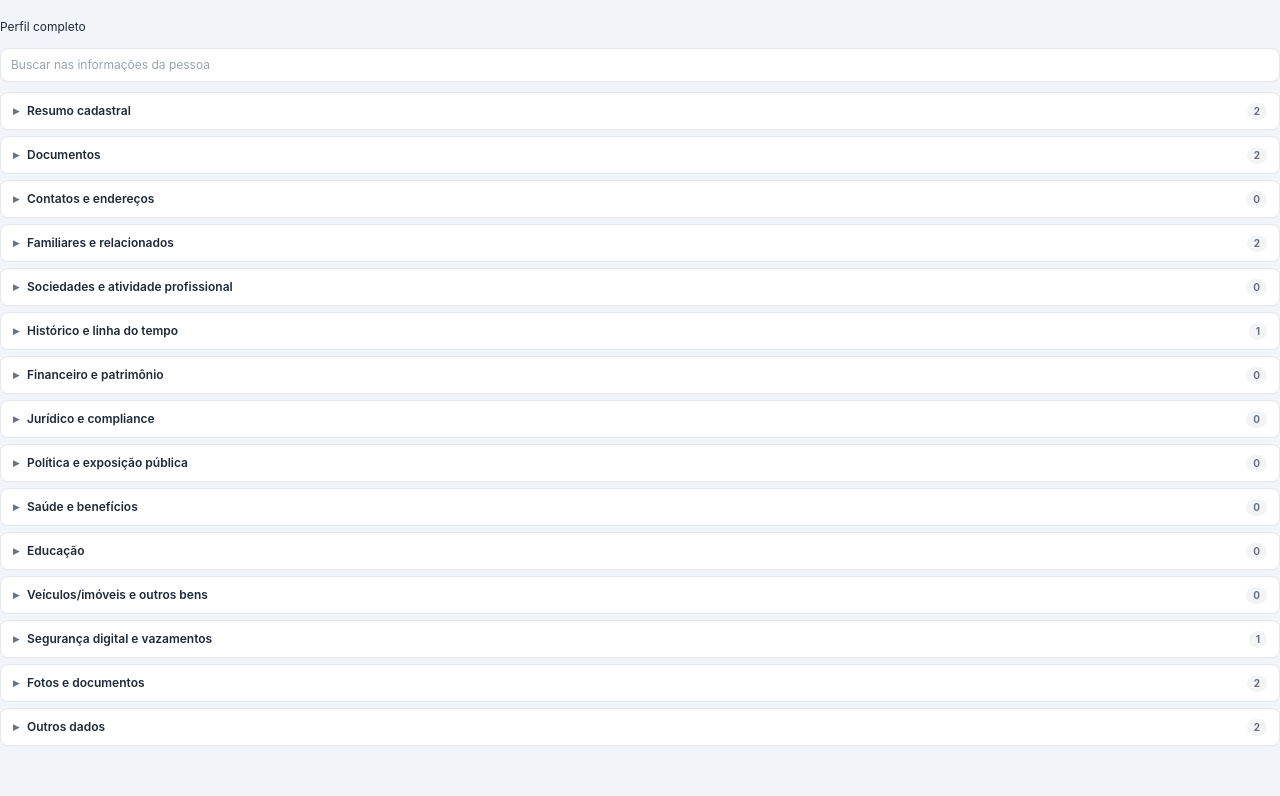
it: PersonProfilePanel — Etapa 2 (categorias, busca, formatação segura) › 16. chave desconhecida/nova cai em "Outros dados" — nenhuma chave é descartada
The image size is (1280, 796).
Click the button "▸ Outros dados 2" at (66, 726), box [1,709,1279,745]
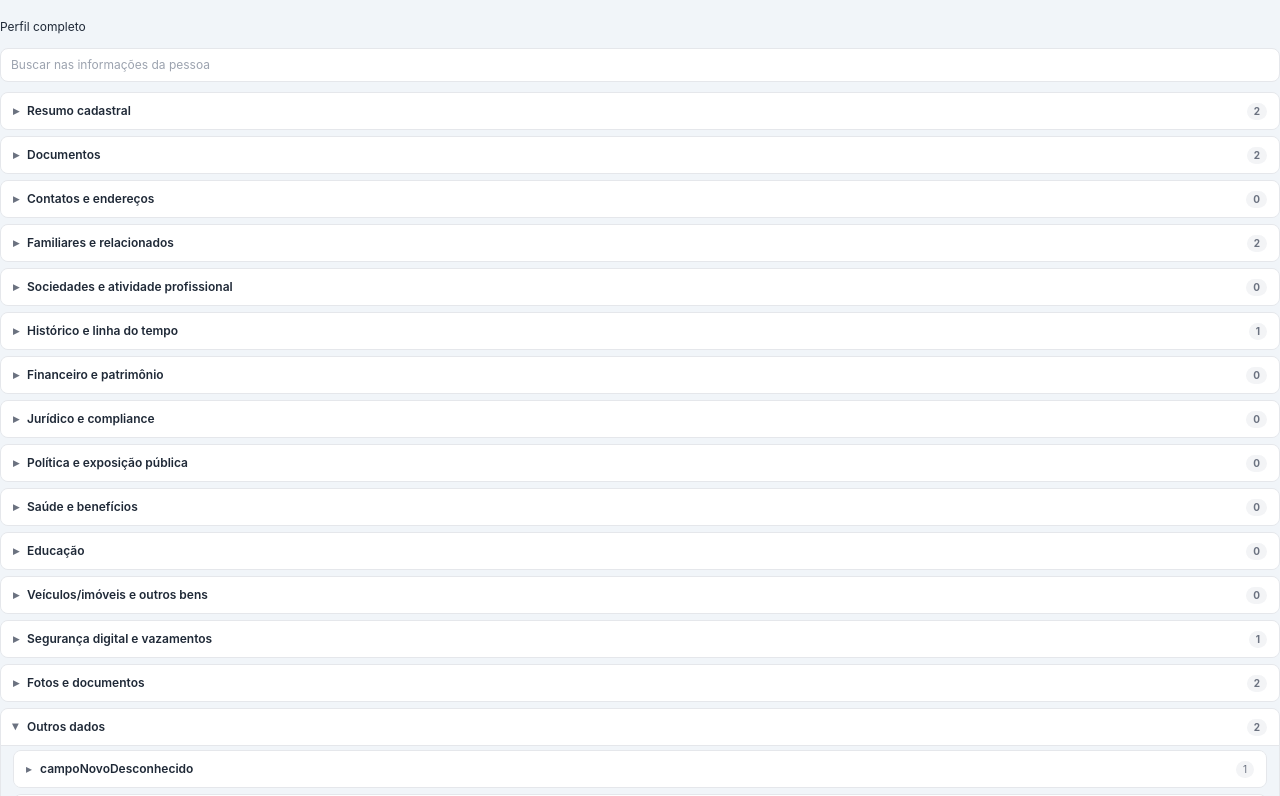
Click the button "▸ campoNovoDesconhecido 1" at (117, 768), box [14,751,1266,787]
(page scrolled)
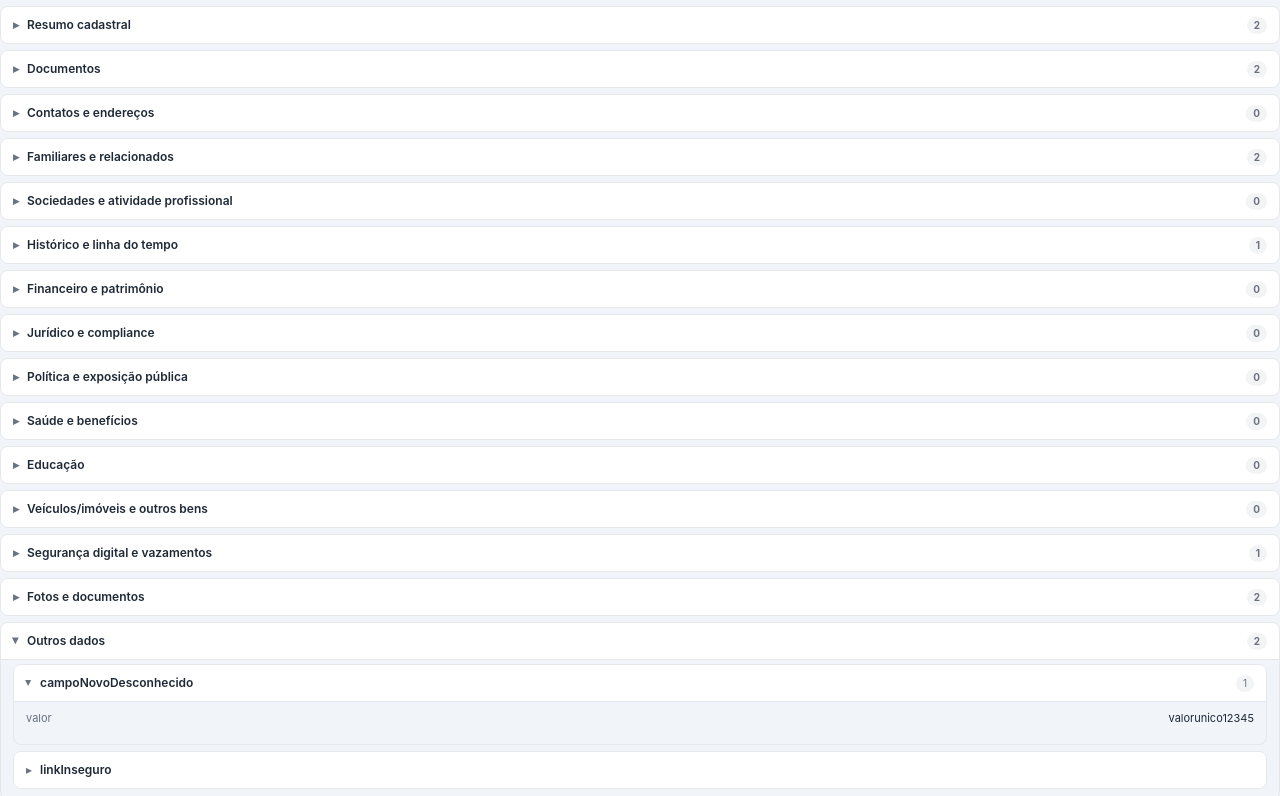
Expected: the text "valorunico12345" is shown, [1168,710,1254,726]
